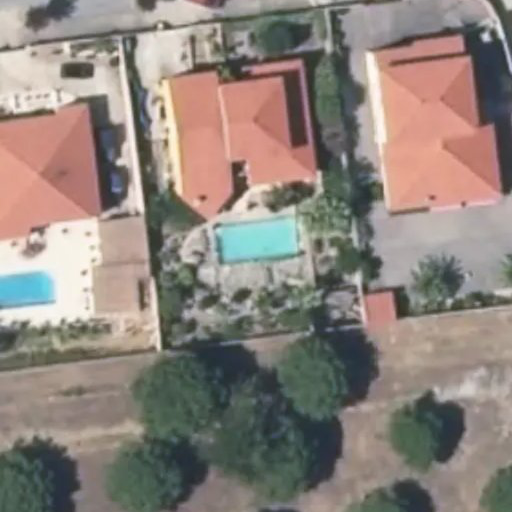pool: (213, 229, 298, 254)
